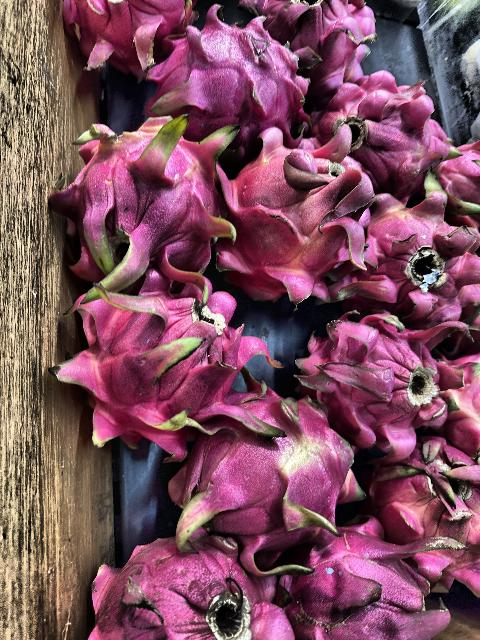buah-naga-belum-matang: (56, 104, 230, 276), (179, 391, 364, 551), (222, 132, 378, 298)
buah-naga-matang: (58, 274, 260, 438), (77, 522, 291, 640), (292, 294, 444, 438), (139, 8, 302, 138), (280, 518, 450, 640), (349, 183, 474, 323), (370, 426, 480, 572), (312, 68, 444, 180), (246, 0, 374, 82), (58, 0, 188, 56)
